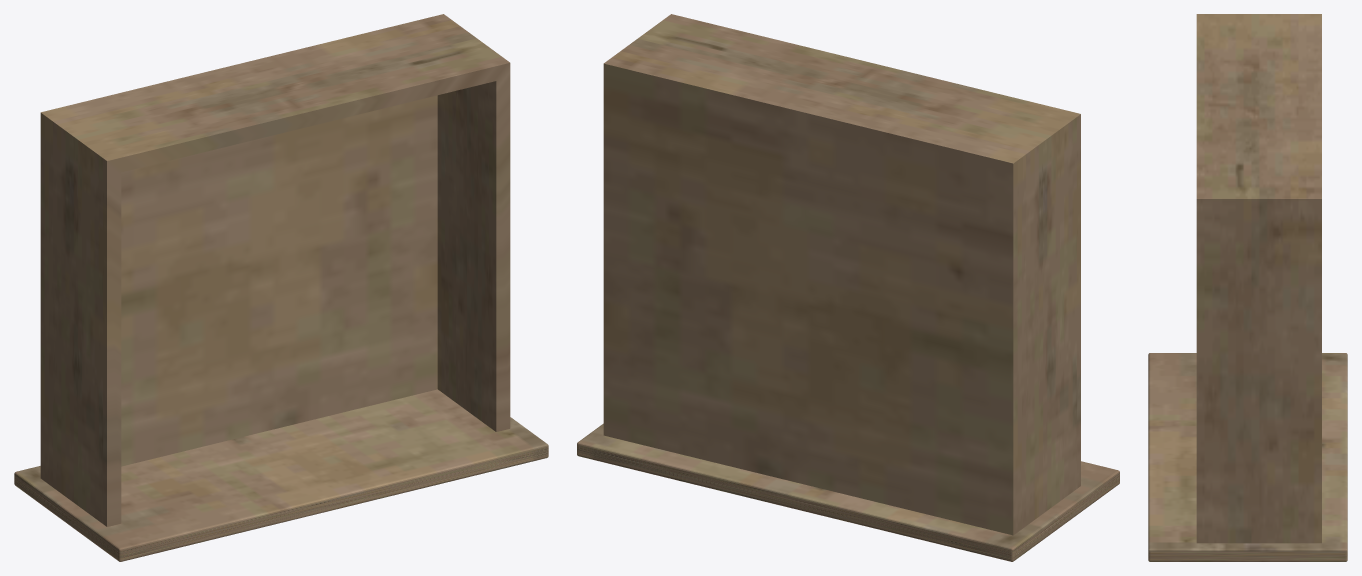
3 renders of one model, left to right at view 1: azimuth 30°, elevation 25°; view 2: azimuth 150°, elevation 25°; view 3: azimuth 270°, elevation 25°, orthographic. The views are drawn at different scales.
Visible parts, largest first — view 1: unicolor_black.002_1; view 2: unicolor_black.002_1; view 3: unicolor_black.002_1.
Part boxes in pixels (x1=…): unicolor_black.002_1: x1=14, y1=14, x2=548, y2=561; unicolor_black.002_1: x1=577, y1=14, x2=1119, y2=561; unicolor_black.002_1: x1=1148, y1=14, x2=1347, y2=561.
Size of the model in its own units: 0.486 by 0.4105 by 0.2075.
Materials: 1 (1 with a texture image).
